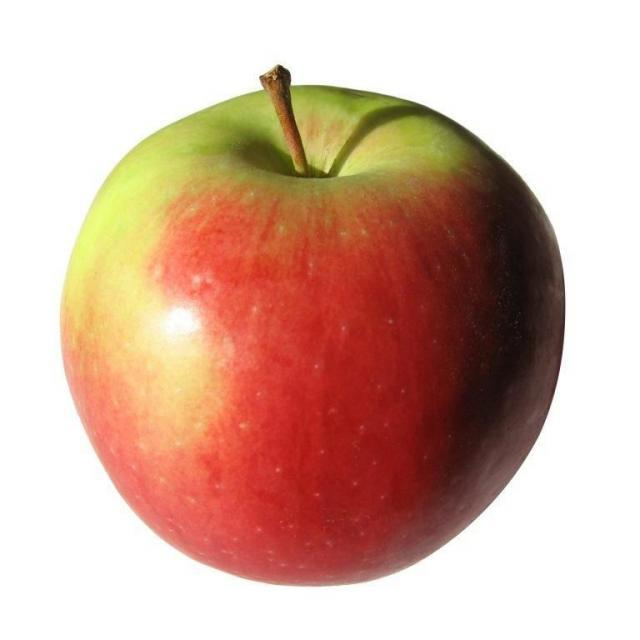Fresh Apple: (105, 92, 517, 563)
